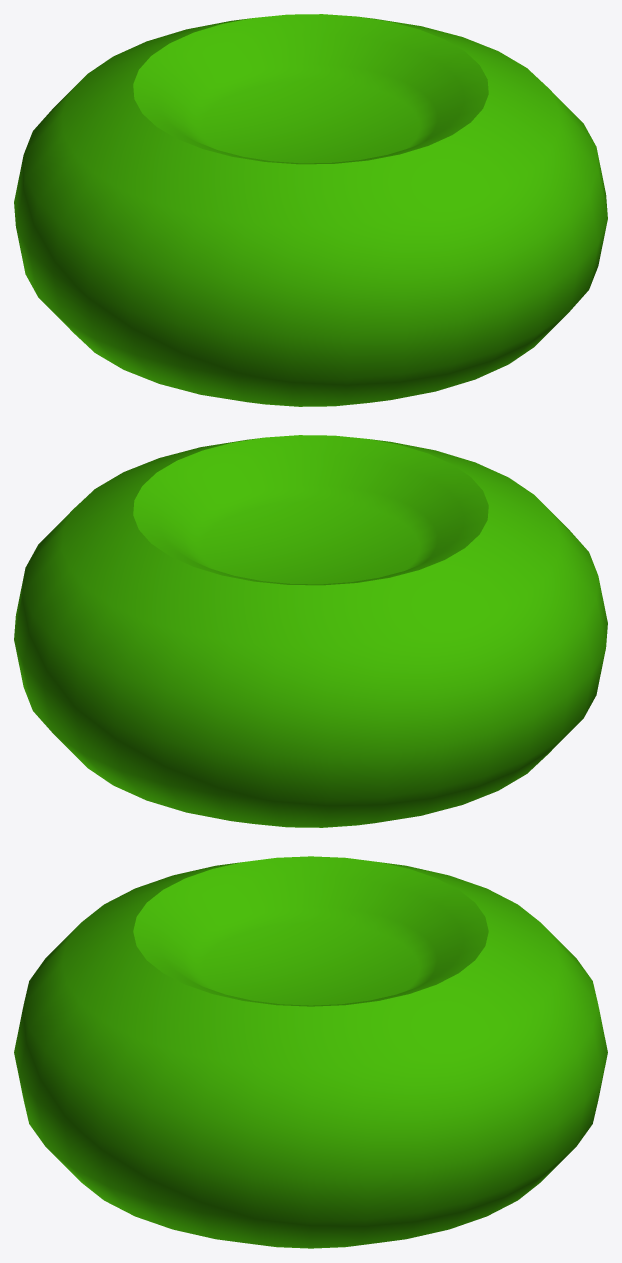
Rendered from Circle.green.fbx.
3 renders of one model, top to bottom at view 1: azimuth 30°, elevation 25°; view 2: azimuth 150°, elevation 25°; view 3: azimuth 270°, elevation 25°, orthographic.
Visible parts, largest first — view 1: Circle.green; view 2: Circle.green; view 3: Circle.green.
Part boxes in pixels (x1,y1,x2,y2): Circle.green: [14, 14, 607, 406]; Circle.green: [14, 435, 607, 827]; Circle.green: [14, 856, 607, 1248].
Size of the model in its own units: 33.73 by 15.16 by 33.73.
